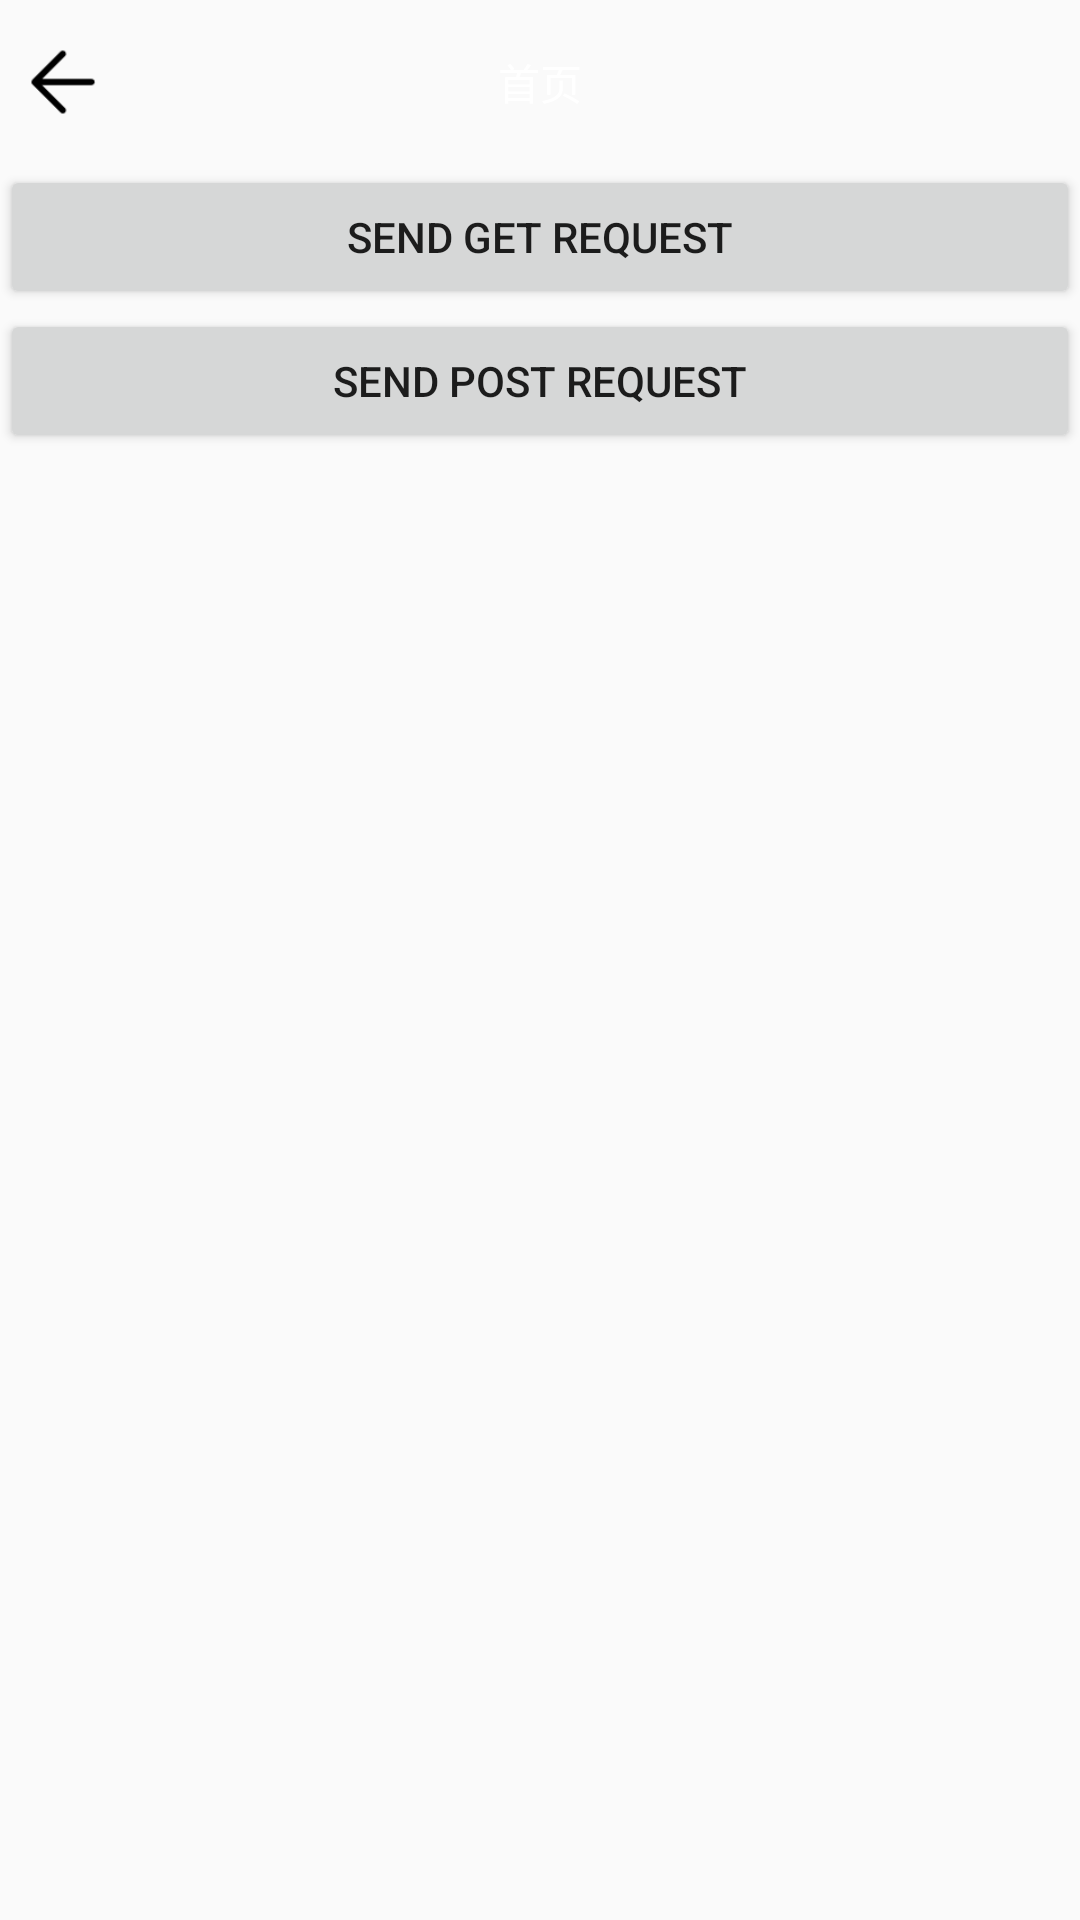

Icon click points for this 1080px×1920px phone screenshot, format (x,y):
return: (63,82)
